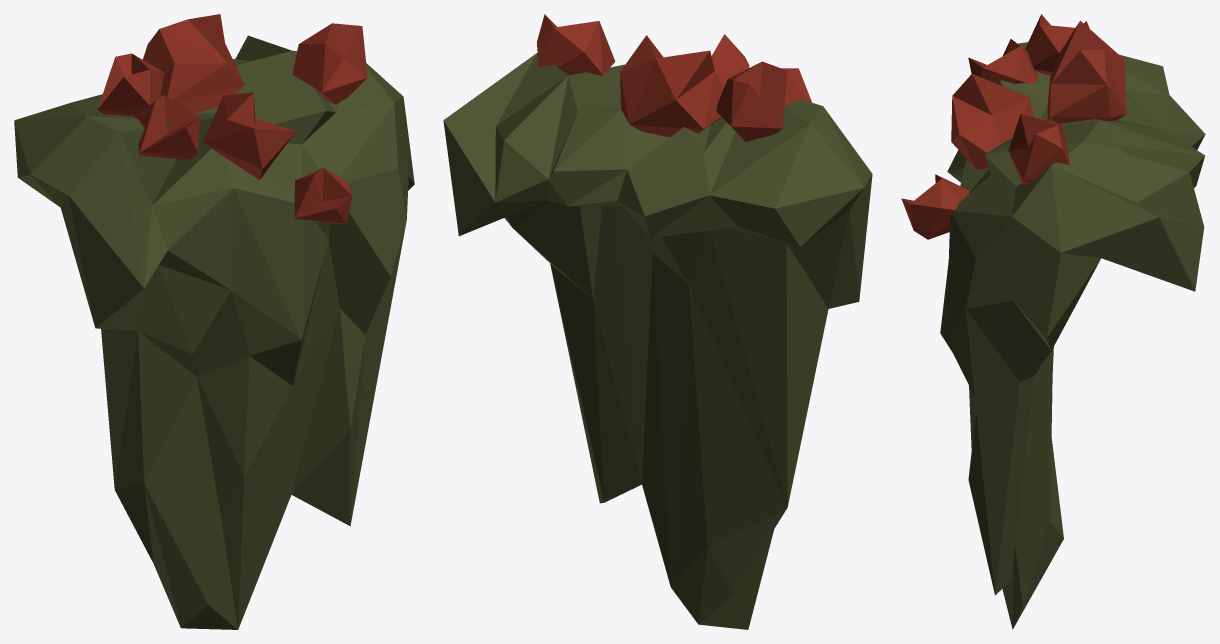
Rendered from SM_Prop_FlowerHanging_01.glb.
The picture shows the model from 3 angles, left to right: view 1: azimuth 30°, elevation 25°; view 2: azimuth 150°, elevation 25°; view 3: azimuth 270°, elevation 25°; orthographic projection. The views are drawn at different scales.
Visible parts, largest first — view 1: SM_Prop_FlowerHanging_01; view 2: SM_Prop_FlowerHanging_01; view 3: SM_Prop_FlowerHanging_01.
Part boxes in pixels (x1,y1,x2,y2): SM_Prop_FlowerHanging_01: (14,14,414,629); SM_Prop_FlowerHanging_01: (443,14,872,629); SM_Prop_FlowerHanging_01: (901,14,1205,629).
Bounding box in the file's own units: 0.00687 × 0.0102 × 0.0048.
